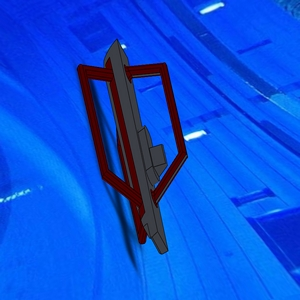submarine: (70, 36, 202, 256)
